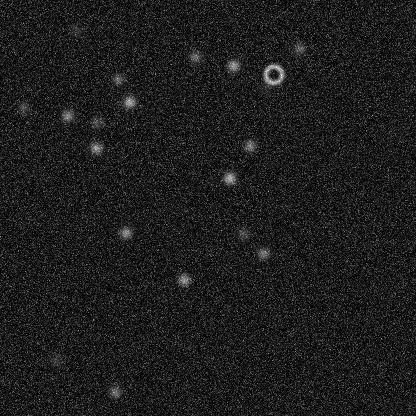Ring: (261, 62, 285, 86)
Spot: (225, 57, 241, 73), (106, 383, 122, 399), (291, 40, 307, 56), (109, 71, 125, 87), (187, 48, 203, 64), (242, 137, 258, 153), (221, 170, 237, 186), (121, 94, 137, 110), (117, 224, 133, 240), (59, 107, 75, 123), (87, 139, 103, 155), (15, 99, 31, 115), (258, 78, 274, 94), (235, 226, 251, 242), (88, 114, 104, 130), (255, 245, 271, 261), (175, 271, 191, 287), (48, 352, 64, 368), (68, 22, 84, 38)
